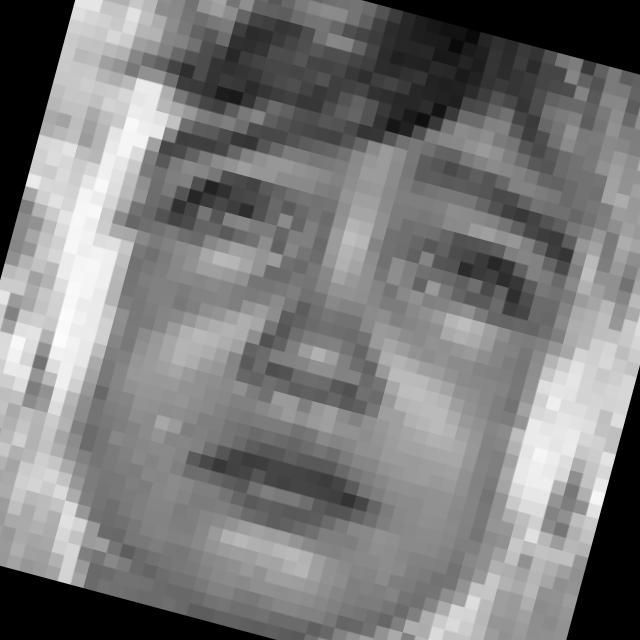sad: (34, 62, 604, 623)
